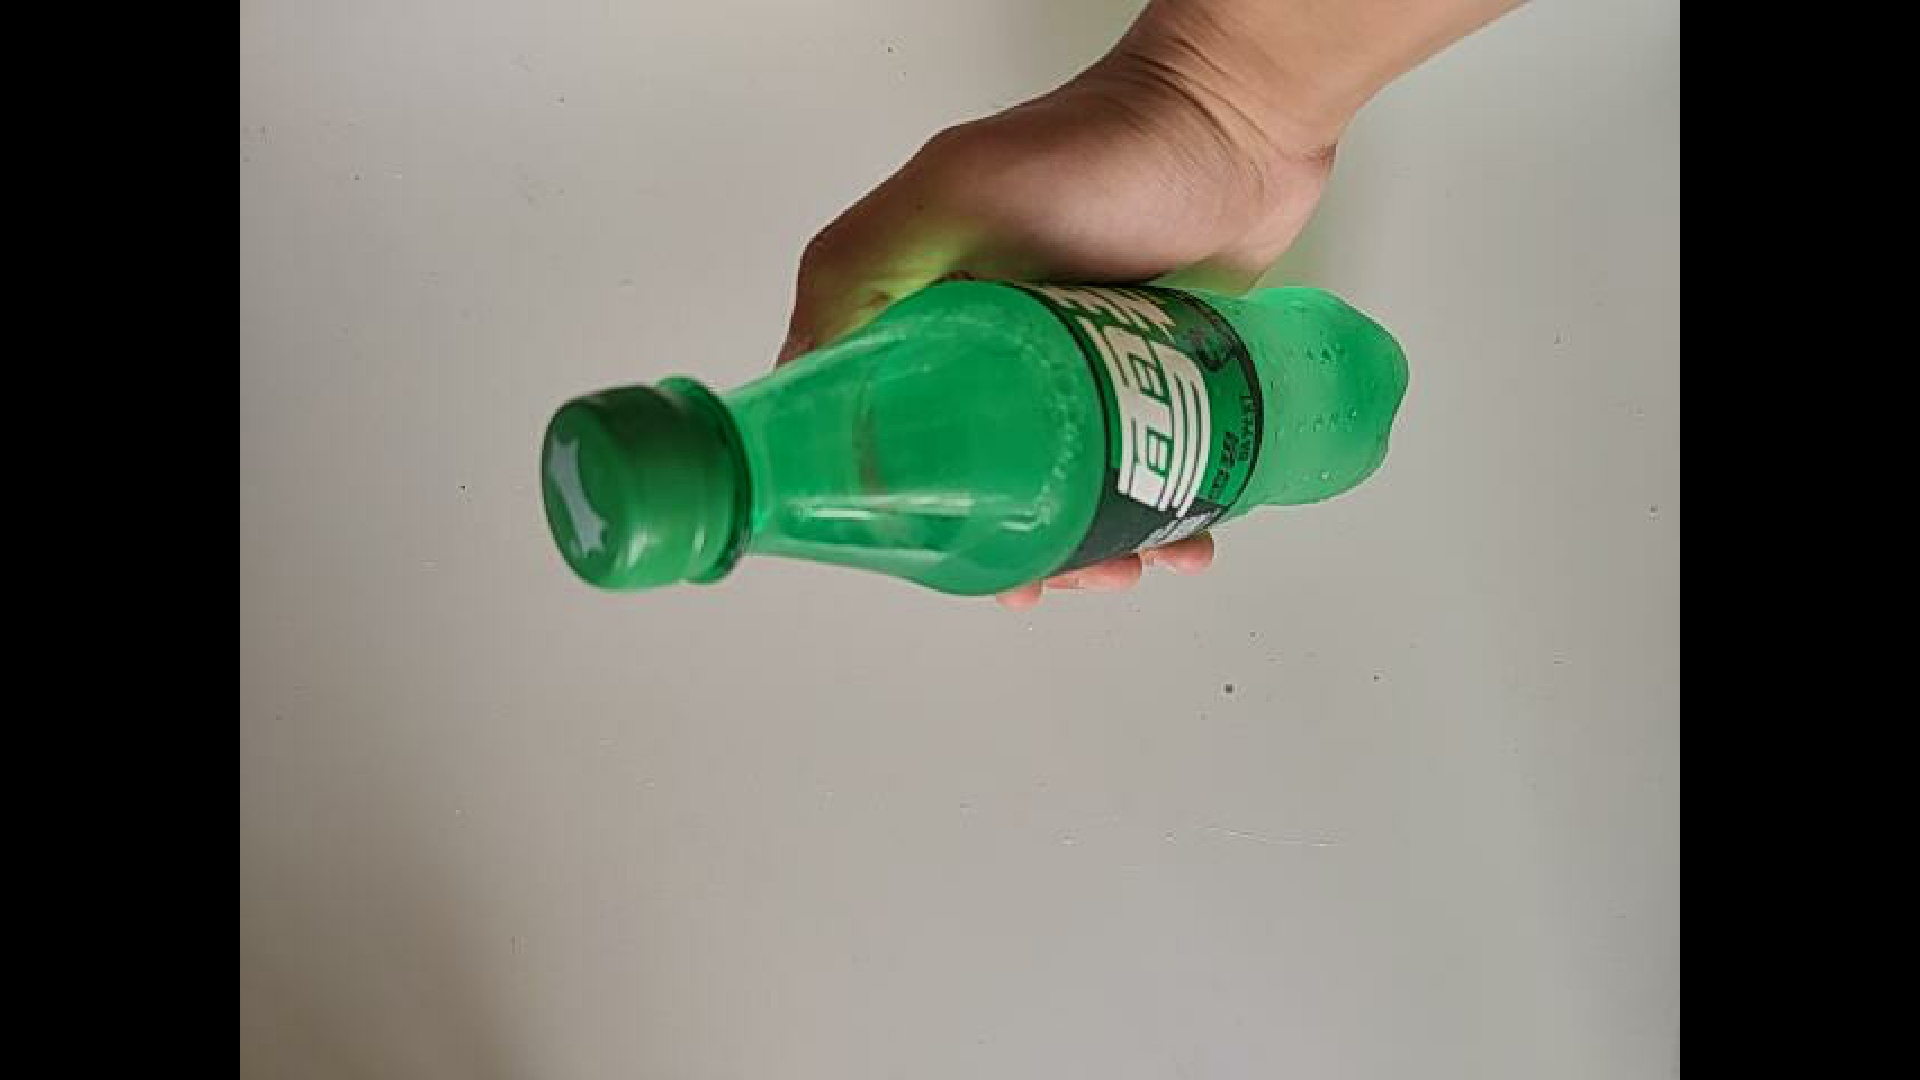sprite: (539, 276, 1410, 599)
